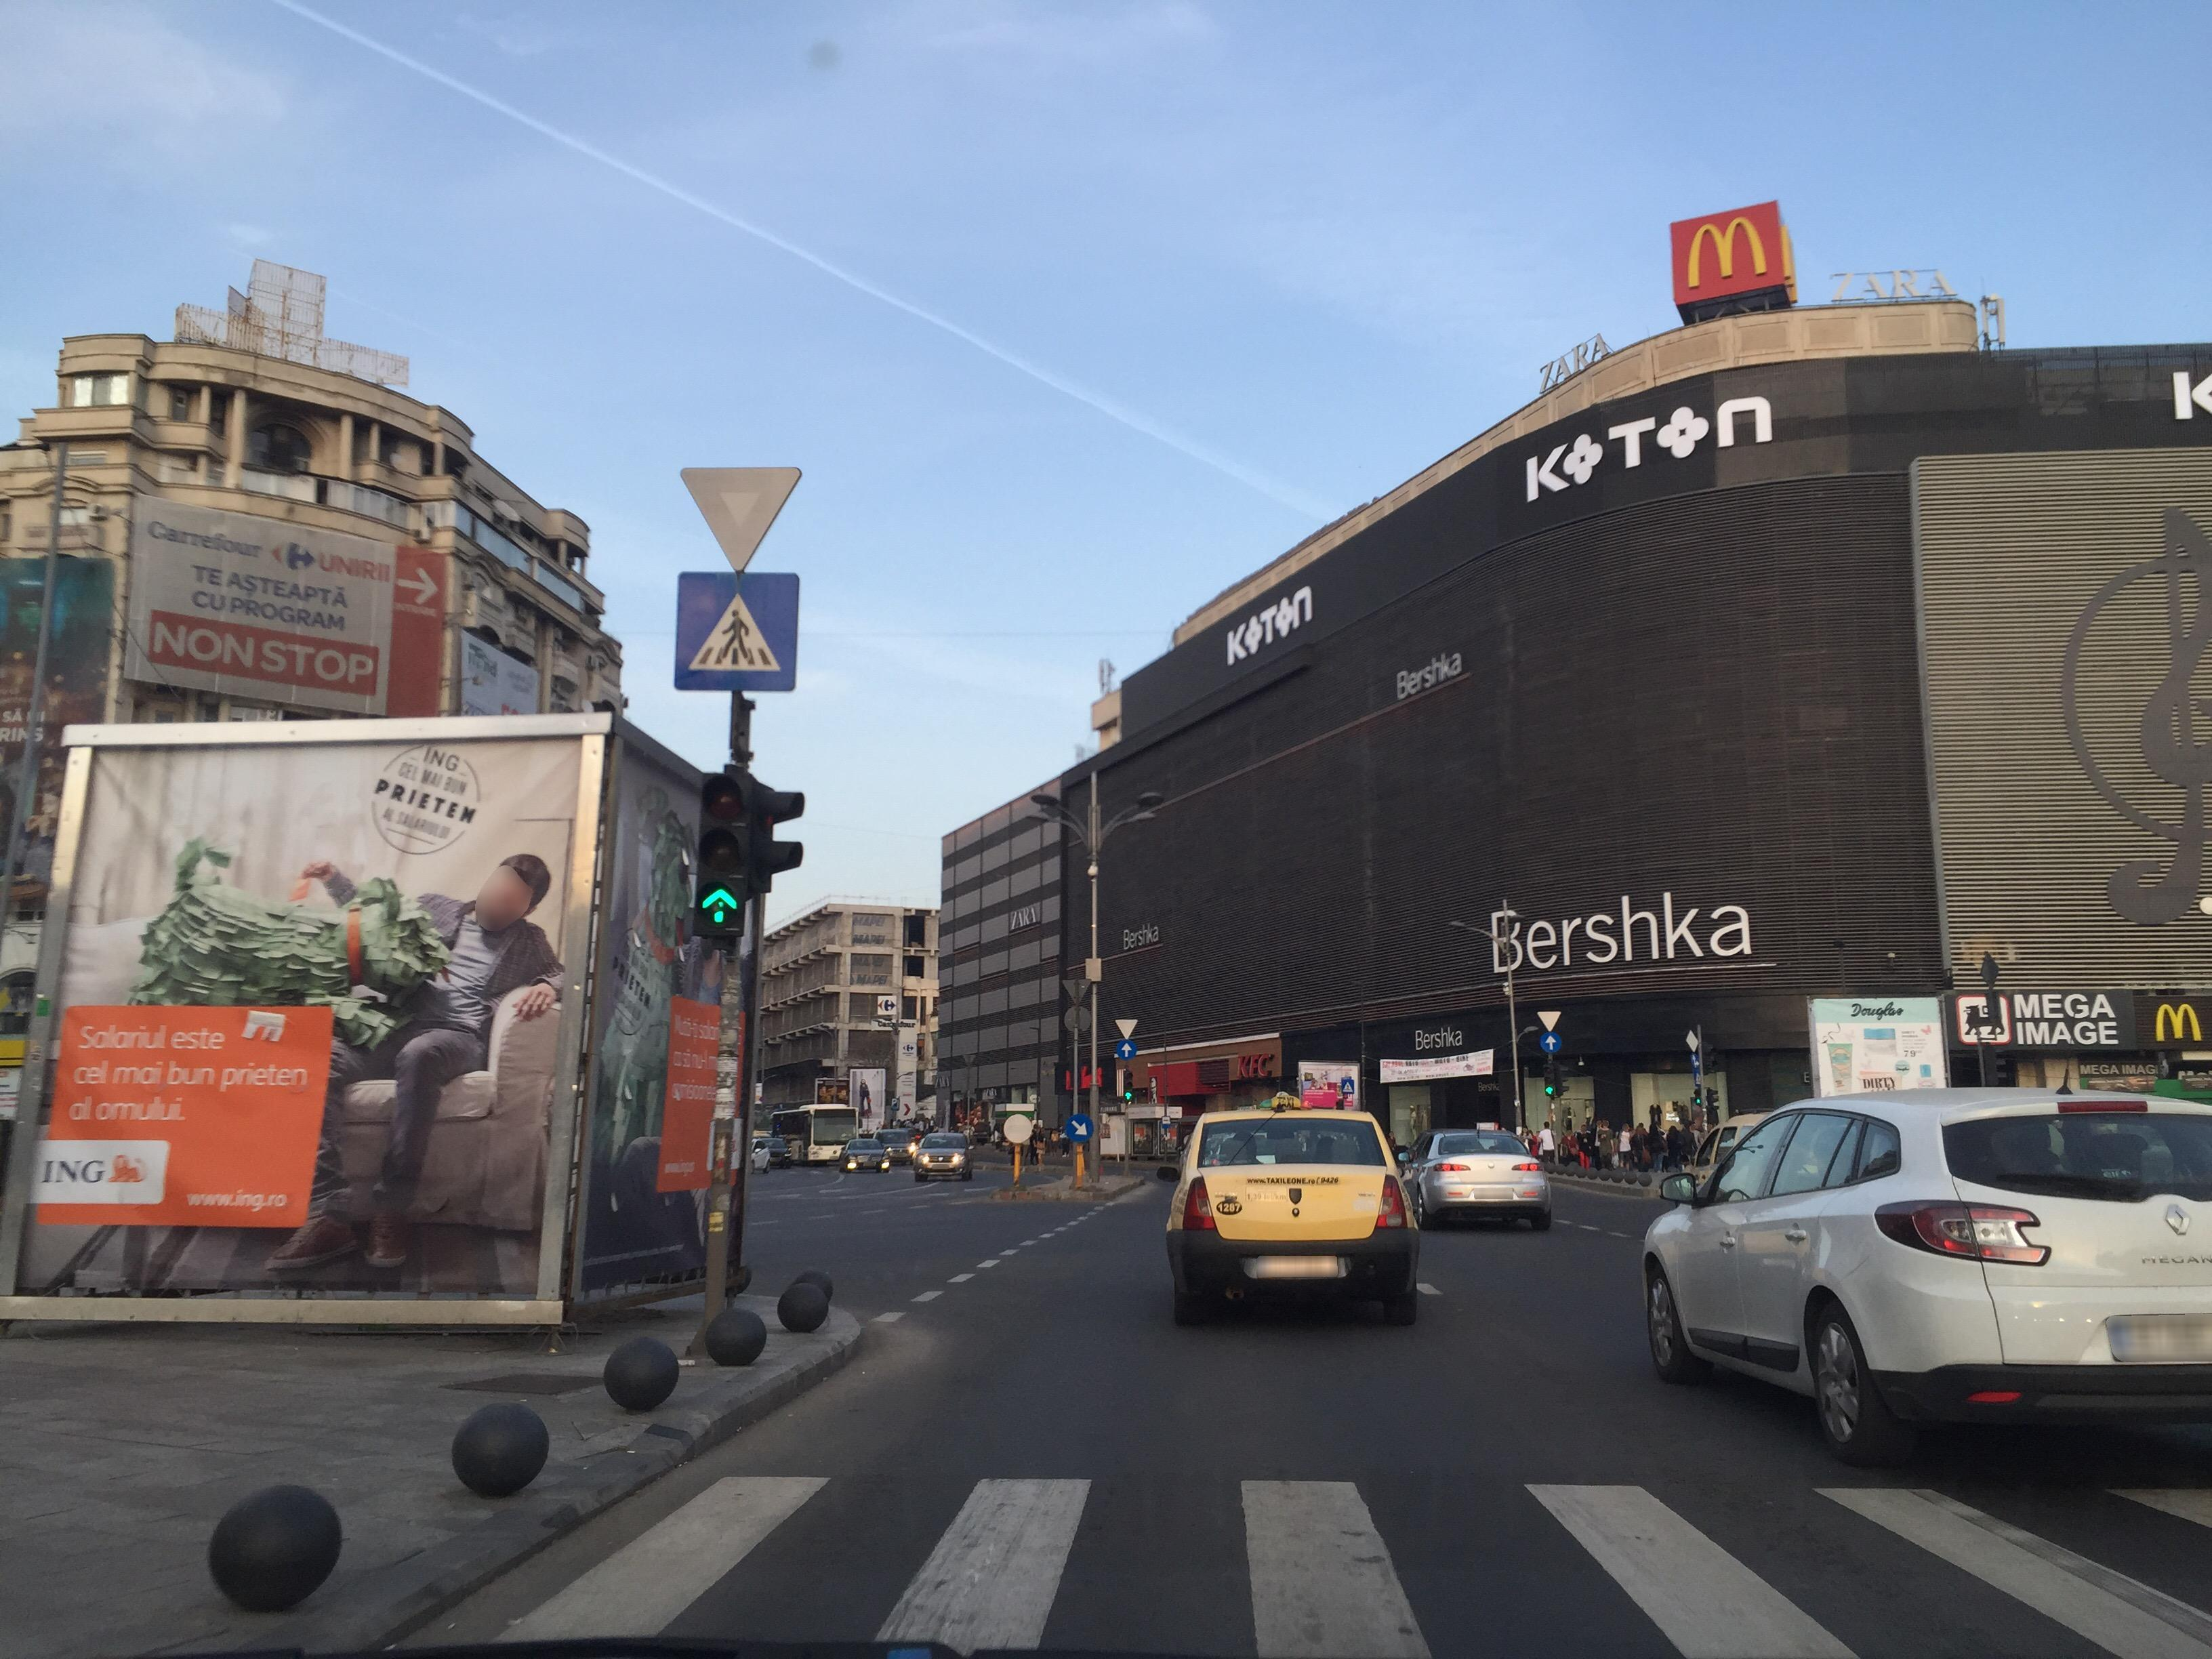vinyl banner: (122, 484, 453, 720), (1371, 1037, 1500, 1089)
